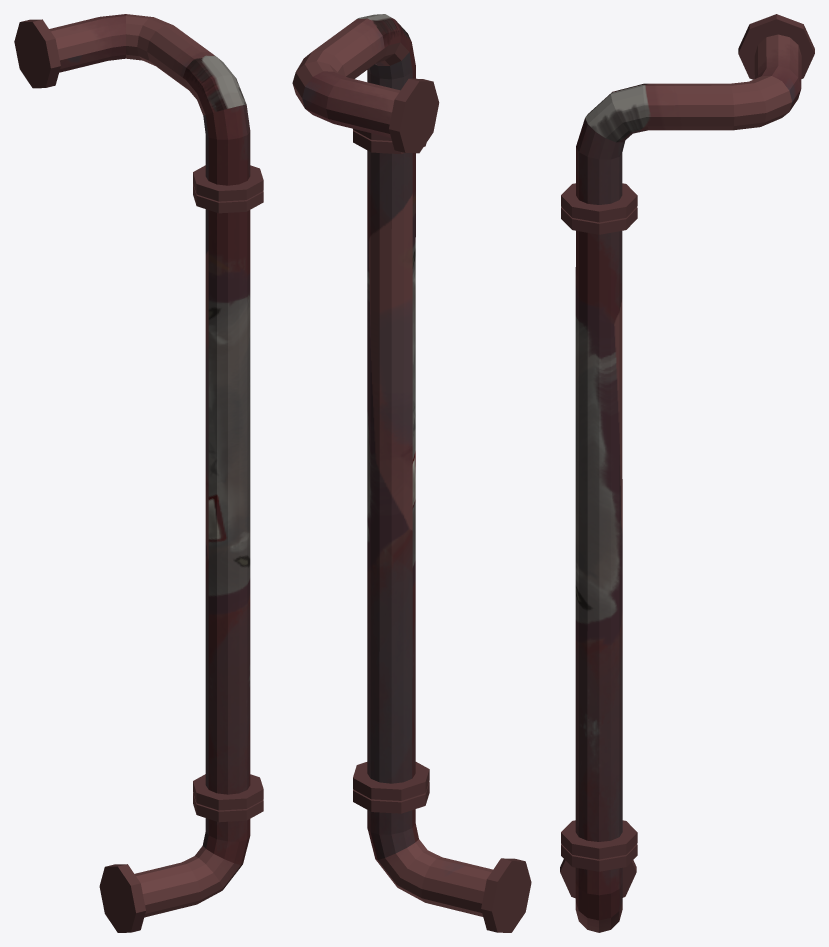
File: pipe 1.fbx
3 renders of one model, left to right at view 1: azimuth 30°, elevation 25°; view 2: azimuth 150°, elevation 25°; view 3: azimuth 270°, elevation 25°, orthographic. The views are drawn at different scales.
Parts seen in each view (by area): view 1: pipe 1; view 2: pipe 1; view 3: pipe 1.
Part boxes in pixels (x1,y1,x2,y2): pipe 1: (14, 14, 263, 932); pipe 1: (292, 14, 531, 932); pipe 1: (560, 14, 814, 932).
Size of the model in its own units: 191 by 1089 by 283.
